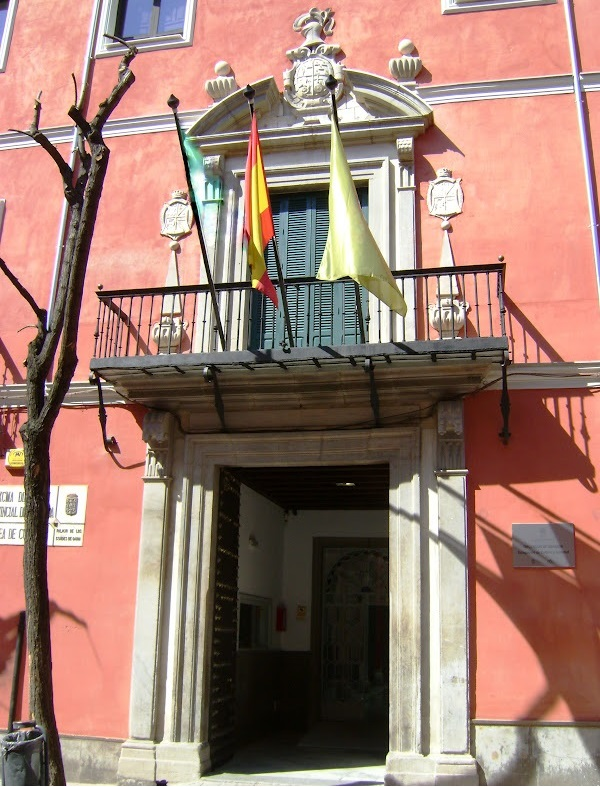fronton-partido: (178, 61, 437, 151)
vano-adintelado: (182, 432, 422, 782), (226, 155, 391, 356)
